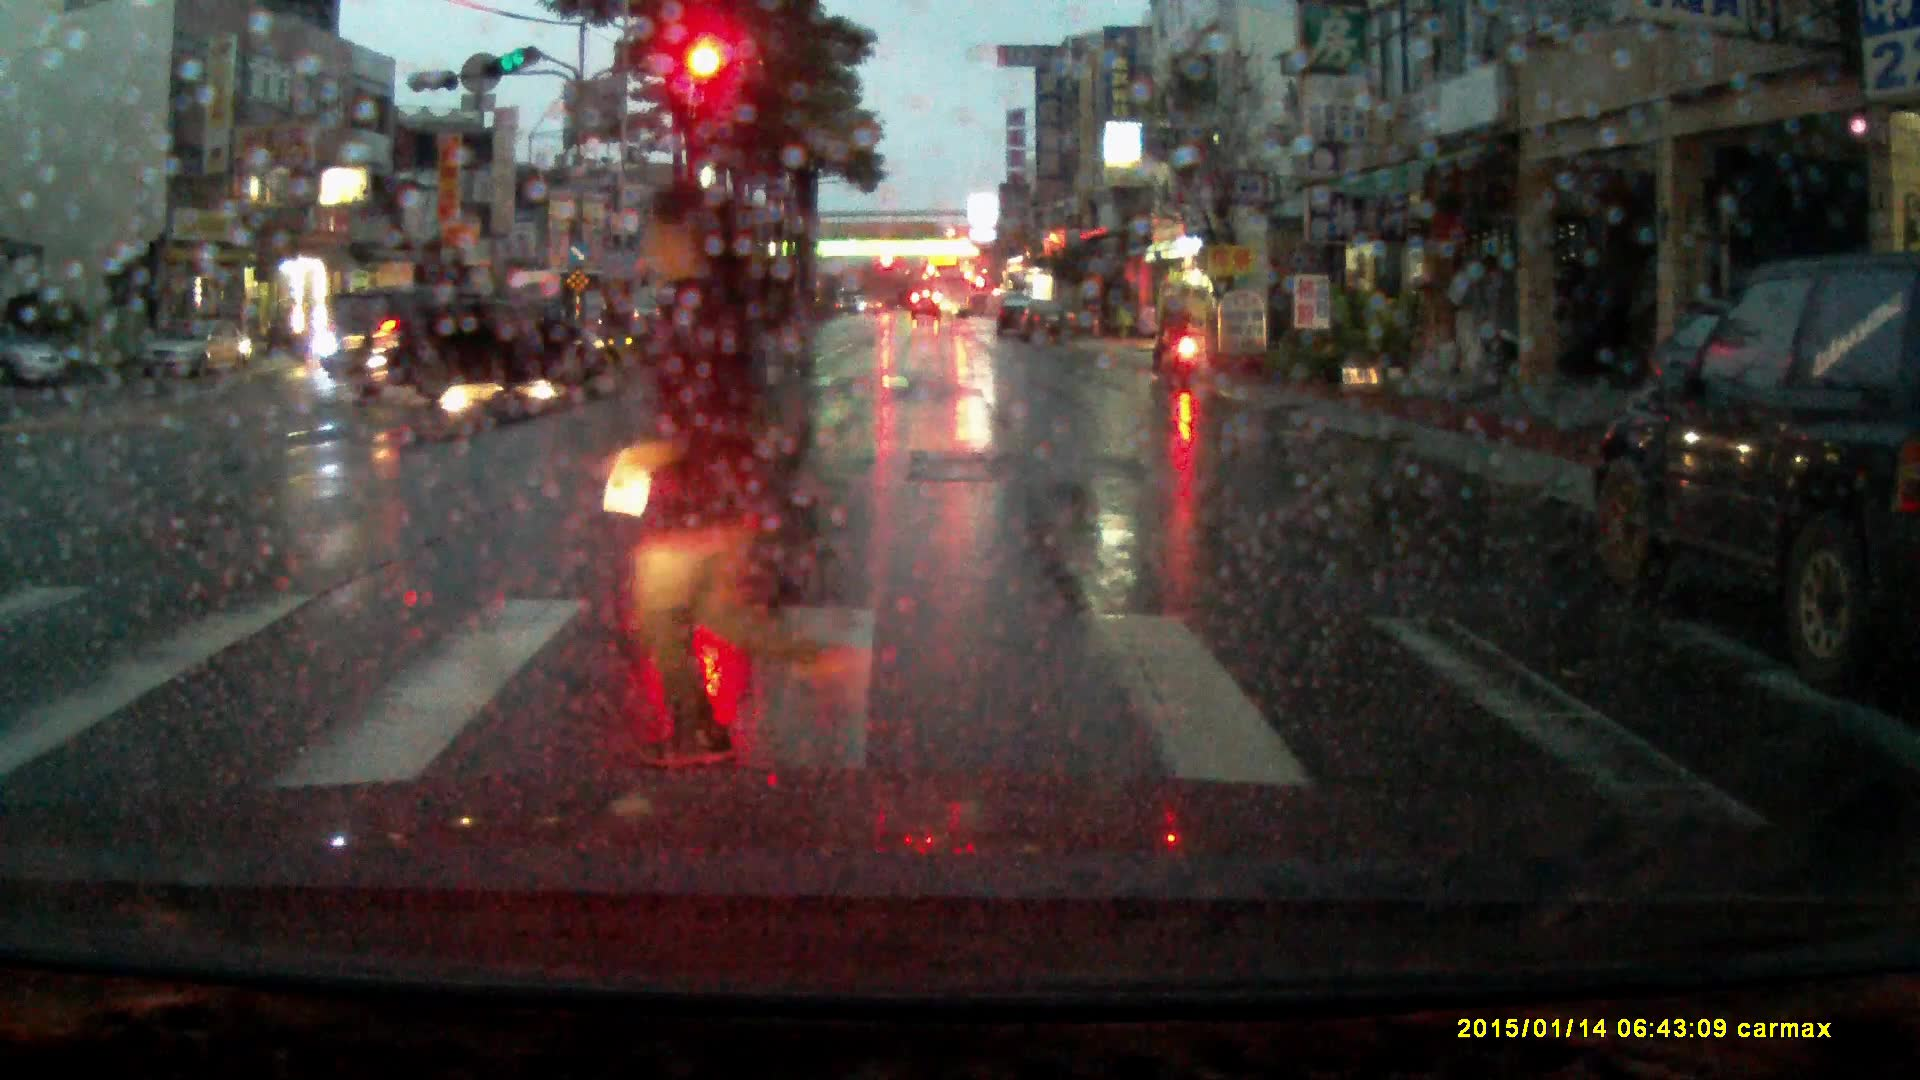pedestrian: (613, 171, 908, 783)
rider: (1155, 273, 1211, 388)
vehicle: (1582, 248, 1920, 683), (310, 285, 611, 402), (142, 314, 253, 380), (494, 268, 591, 341), (574, 288, 664, 340), (1, 331, 69, 389), (1017, 300, 1079, 346), (931, 264, 973, 321), (995, 295, 1030, 338), (911, 291, 943, 322)
